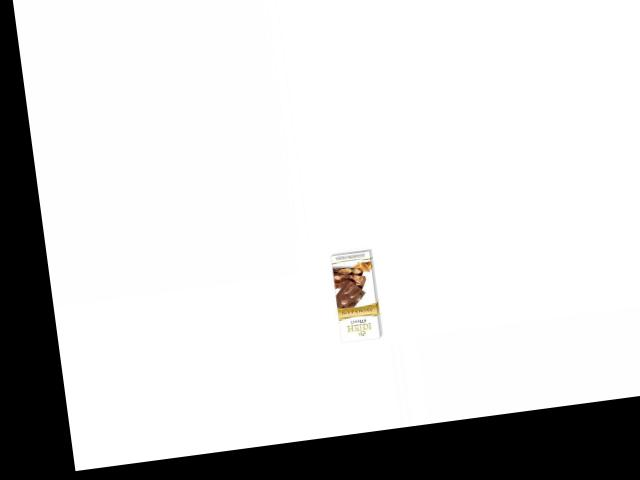chocolate: (321, 249, 391, 349)
